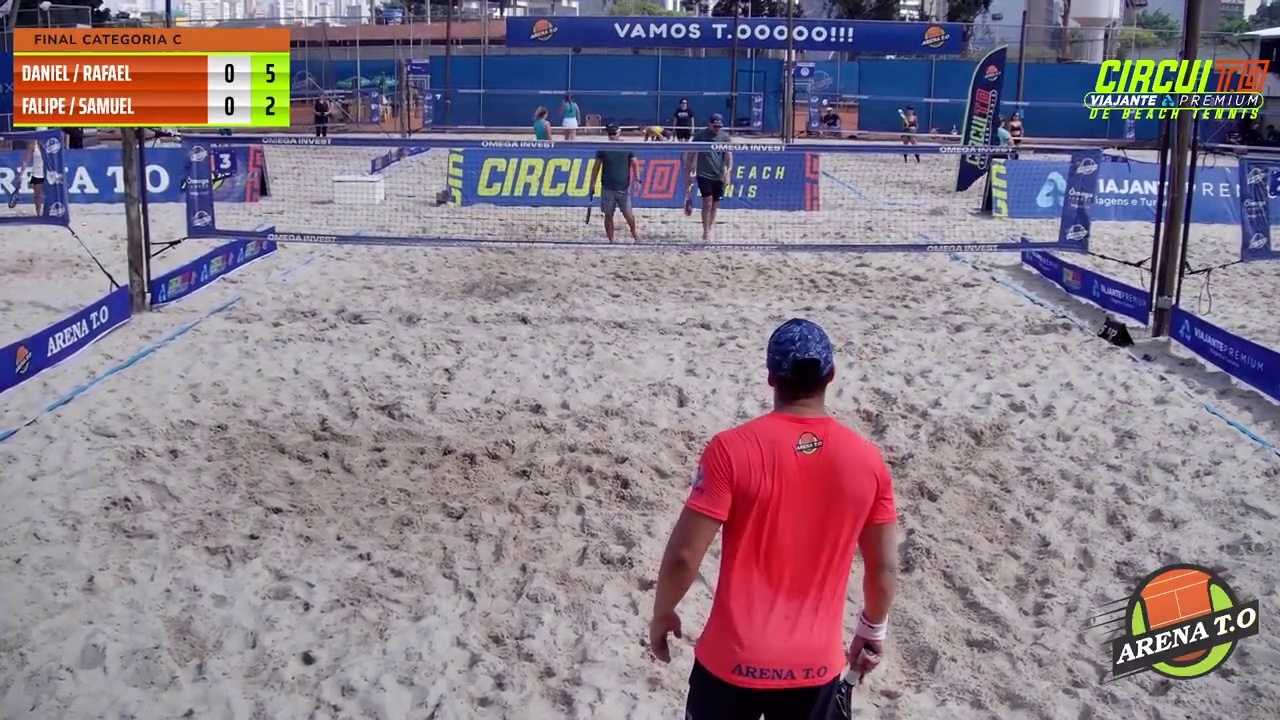court_line: (634, 0, 803, 494)
